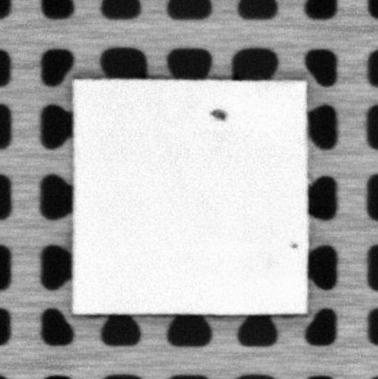DIE_INK: (208, 106, 230, 123), (288, 240, 300, 250)
